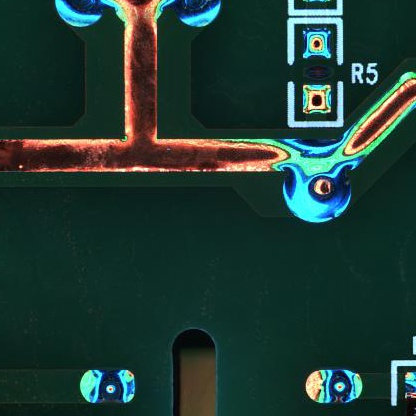spot: (282, 160, 353, 225), (305, 368, 363, 404), (79, 369, 138, 404)
